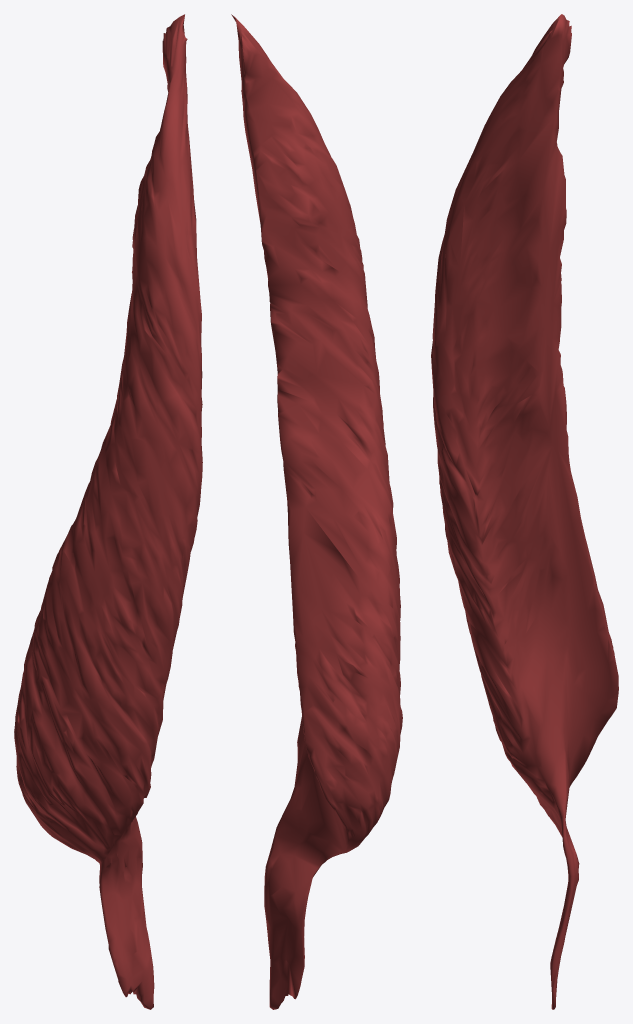
The model's file is vastus-medialis-muscle-l.glb.
3 renders of one model, left to right at view 1: azimuth 30°, elevation 25°; view 2: azimuth 150°, elevation 25°; view 3: azimuth 270°, elevation 25°, orthographic. The views are drawn at different scales.
Parts seen in each view (by area): view 1: Vastus medialis muscle.l; view 2: Vastus medialis muscle.l; view 3: Vastus medialis muscle.l.
Part boxes in pixels (x1,y1,x2,y2): Vastus medialis muscle.l: (14,14,202,1009); Vastus medialis muscle.l: (231,14,402,1009); Vastus medialis muscle.l: (431,14,618,1009).
Size of the model in its own units: 0.0716 by 0.4079 by 0.0685.
